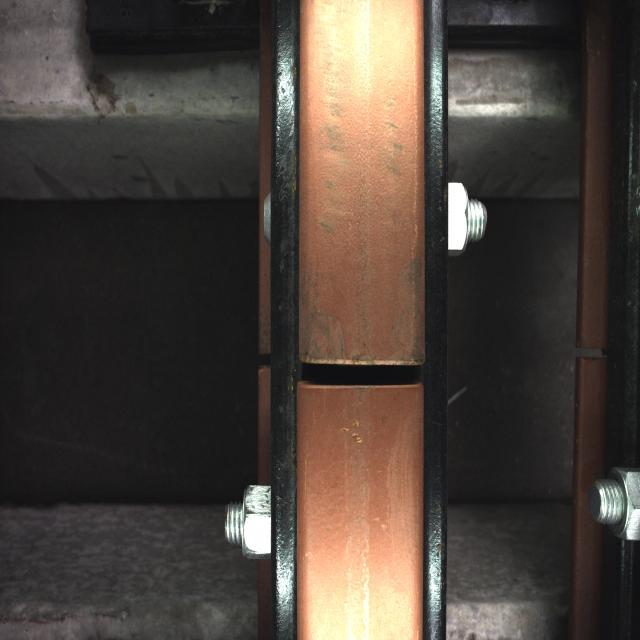spalling: (265, 304, 454, 426)
